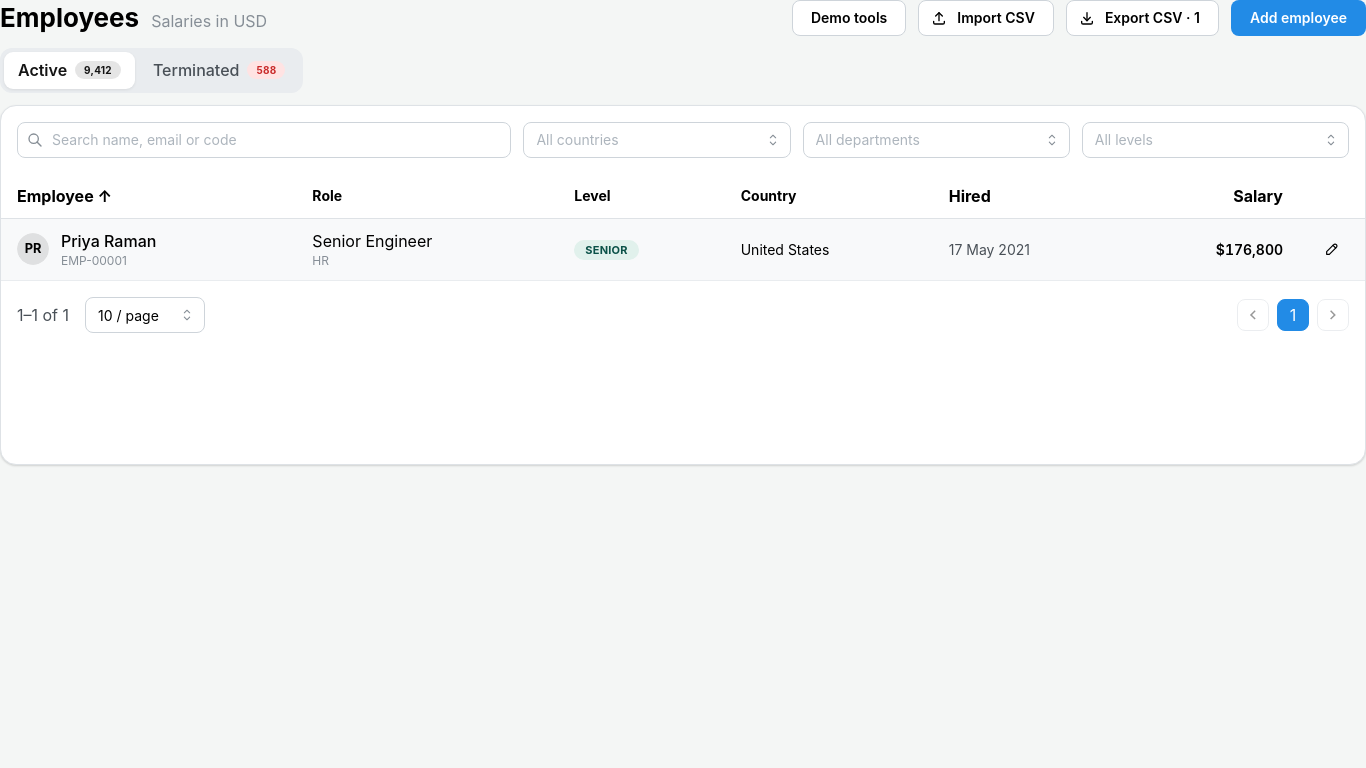
Test case: EmployeesPage › terminating › goes back to the Edit modal with unsaved changes when you keep the employee
Expected: the text "Priya Raman" is shown, [61,229,156,253]
Click the button named "Edit Priya Raman". click: (1332, 249)
box: [1315,232,1349,266]
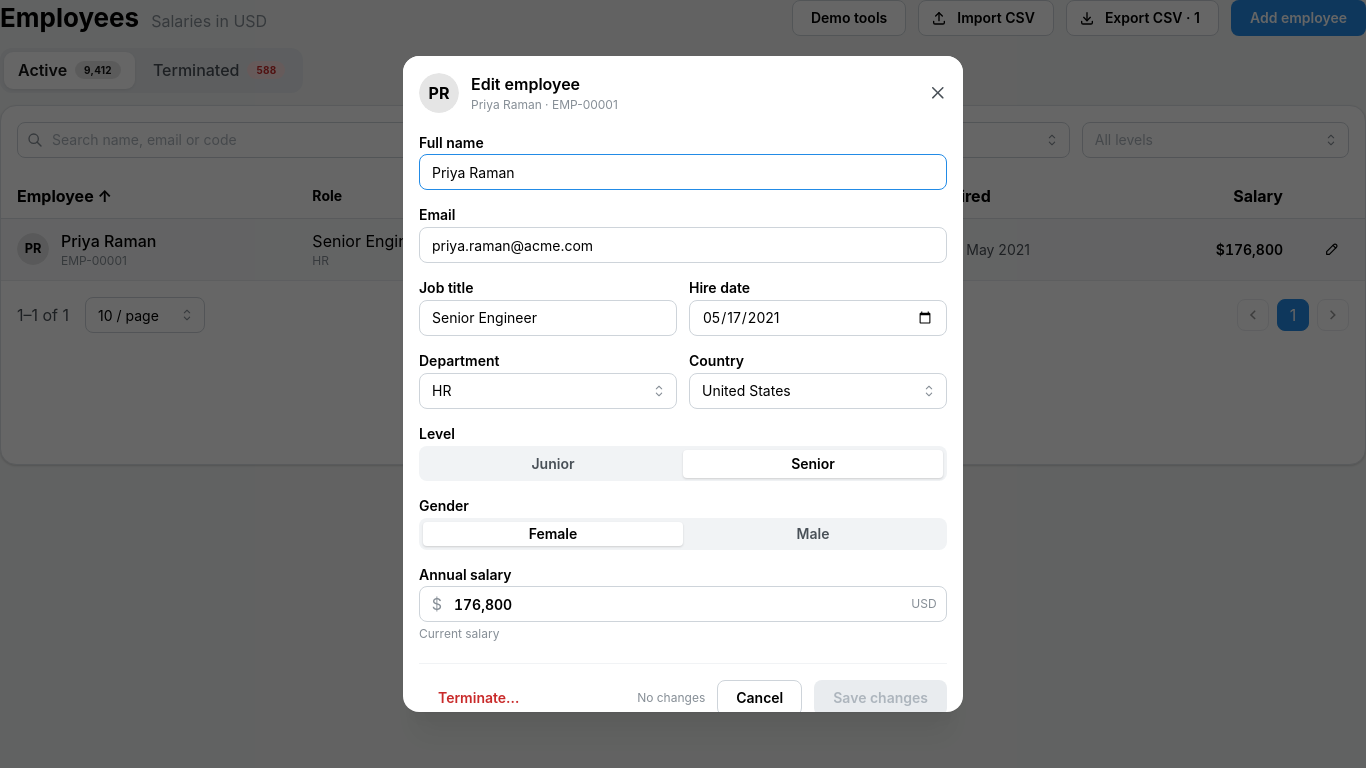
Replace the text in the field labelled "Annual salary" with "180000". click: (683, 604)
box: [419,586,947,622]
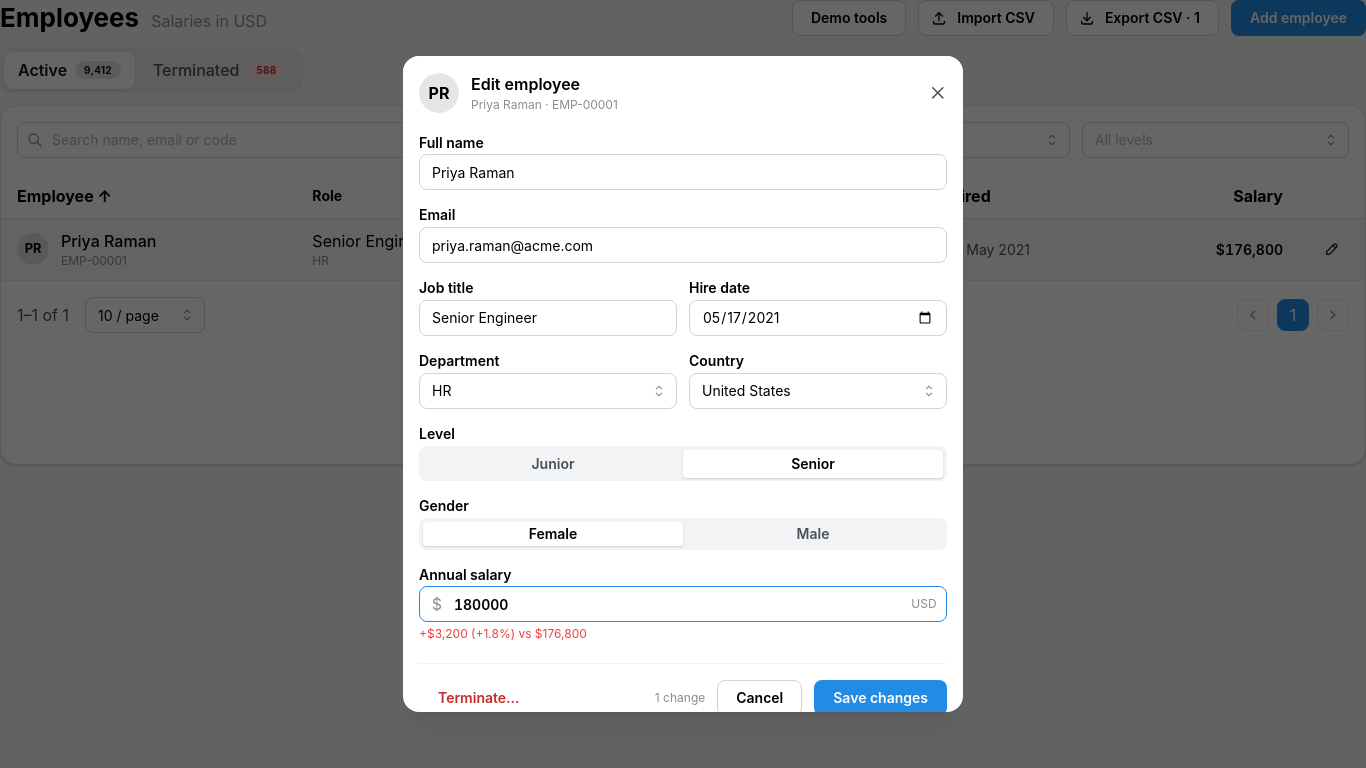
Click the button "Terminate…". click: (479, 698)
box: [419,680,538,716]
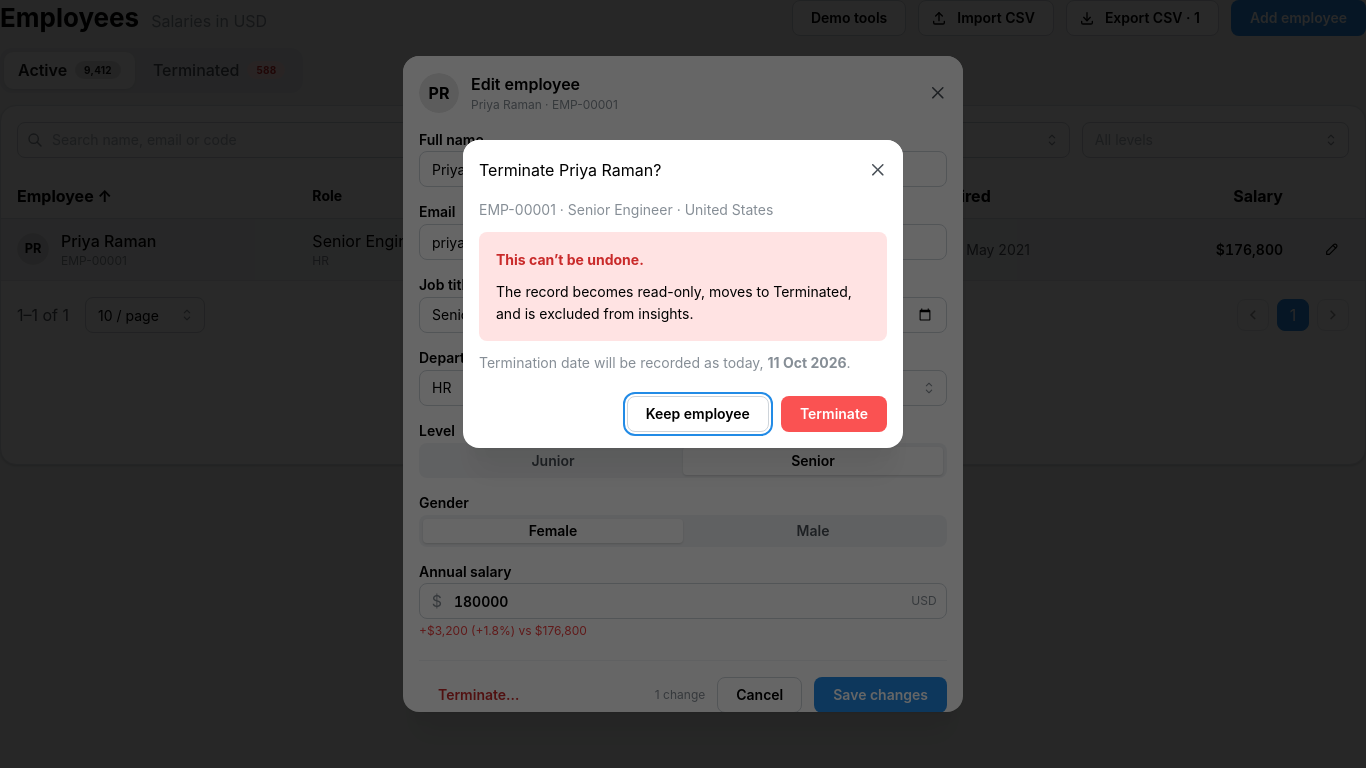
Click the button "Keep employee". click: (698, 414)
box: [627,396,769,432]
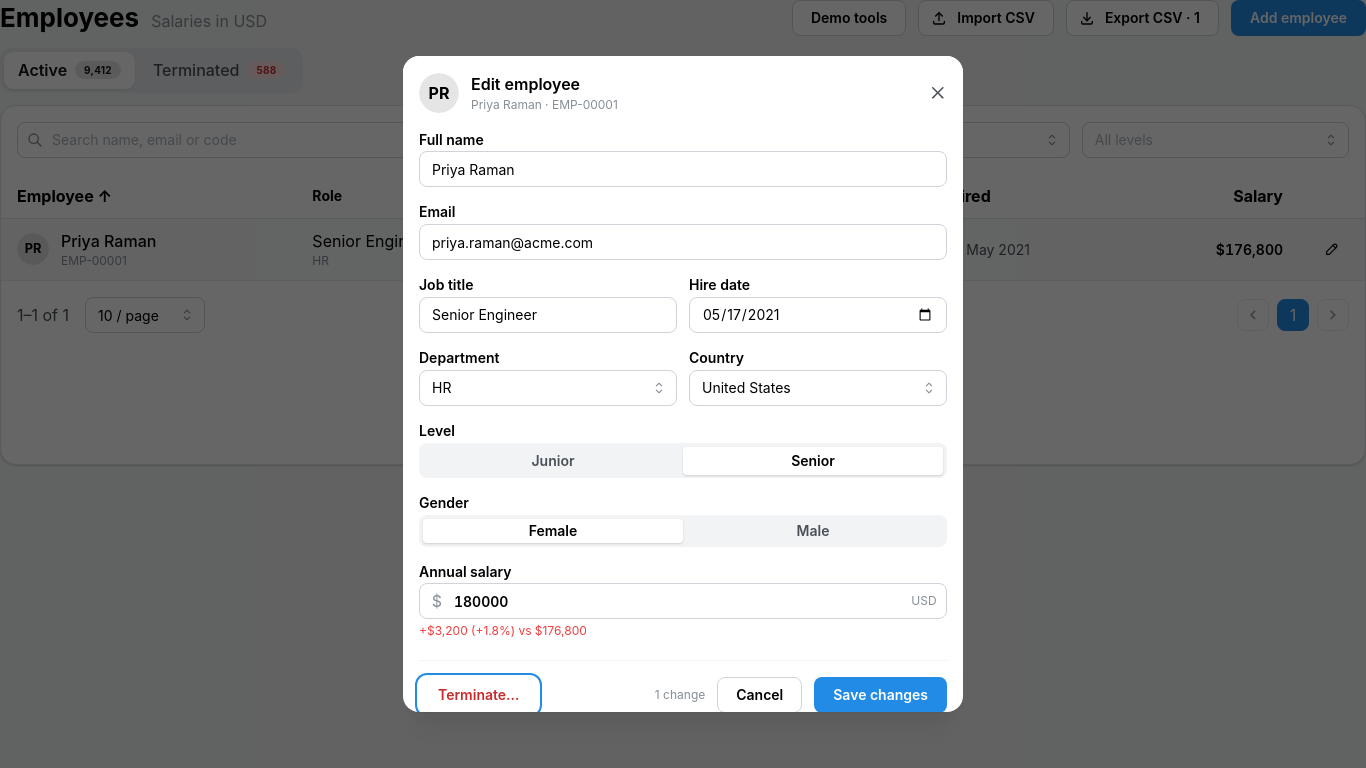
Now the heading "Terminate Priya Raman?" is gone
